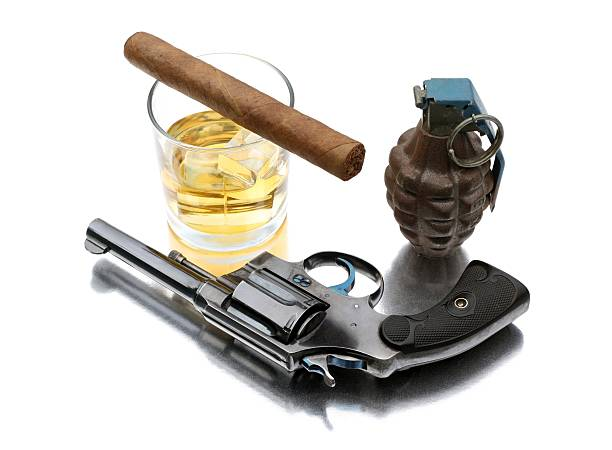alcohol: (145, 49, 293, 252)
cigarette: (120, 28, 368, 182)
gun: (84, 215, 533, 392)
